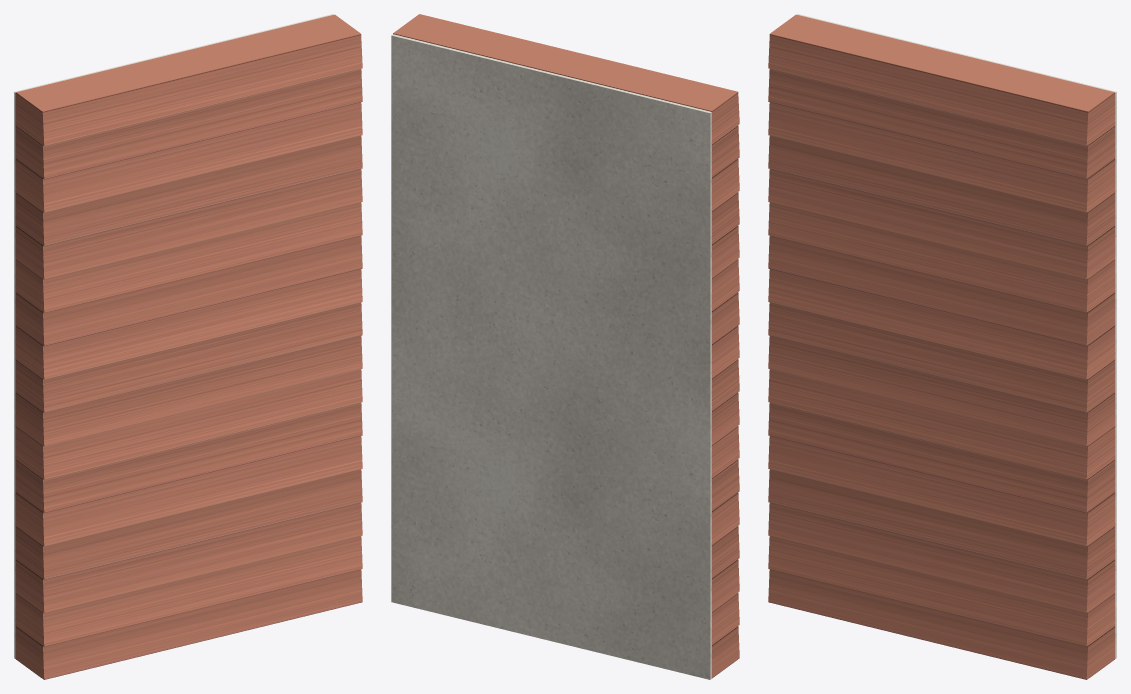
Rendered from f_u_plain_e.glb.
3 views of the same model, side by side, from view 1: azimuth 30°, elevation 25°; view 2: azimuth 150°, elevation 25°; view 3: azimuth 330°, elevation 25° (orthographic).
Visible parts, largest first — view 1: f_u_plain_e_siding_e, f_u_plain_e_plaster; view 2: f_u_plain_e_plaster, f_u_plain_e_siding_e; view 3: f_u_plain_e_siding_e, f_u_plain_e_plaster.
Part boxes in pixels (x1,y1,x2,y2): f_u_plain_e_siding_e: (16,14,362,679); f_u_plain_e_plaster: (14,14,333,658); f_u_plain_e_plaster: (391,34,711,679); f_u_plain_e_siding_e: (393,14,739,678); f_u_plain_e_siding_e: (768,14,1114,679); f_u_plain_e_plaster: (797,14,1116,658).
Size of the model in its own units: 2 by 3.4 by 0.324.
Materials: 2 (2 with a texture image).
